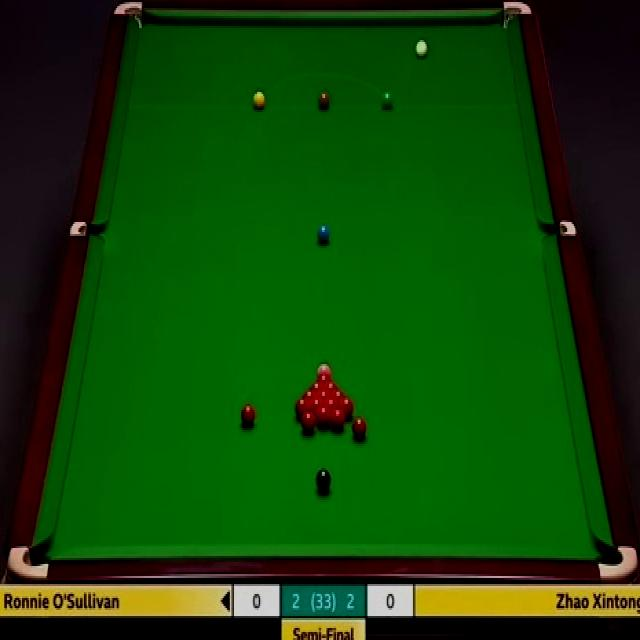pocket: (4, 543, 50, 583), (598, 543, 638, 582), (112, 0, 145, 32), (501, 2, 530, 30), (65, 218, 104, 237), (541, 220, 575, 237)
